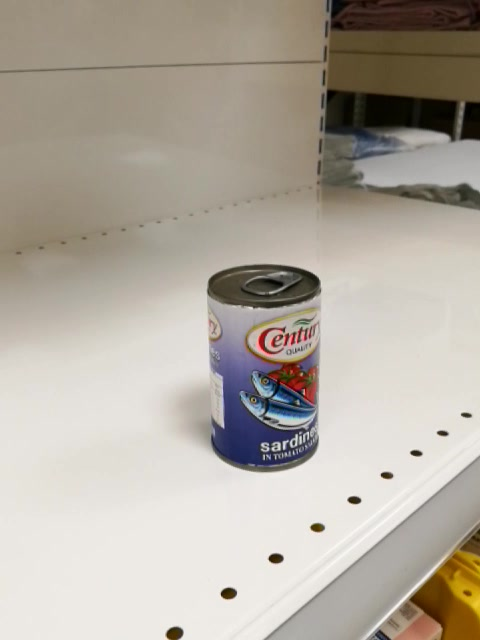sardine: (205, 262, 323, 474)
